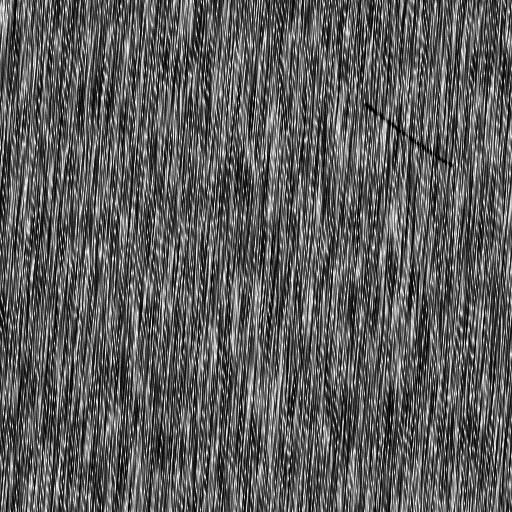scratch: (360, 94, 456, 174)
